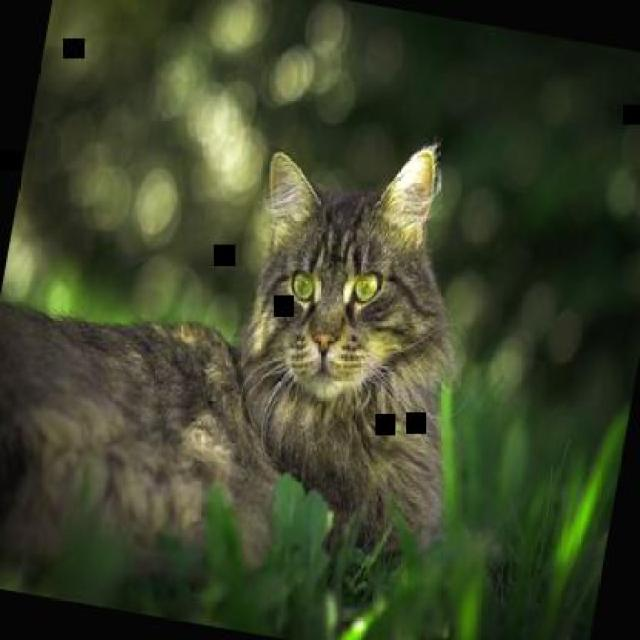cat: (0, 75, 506, 636)
